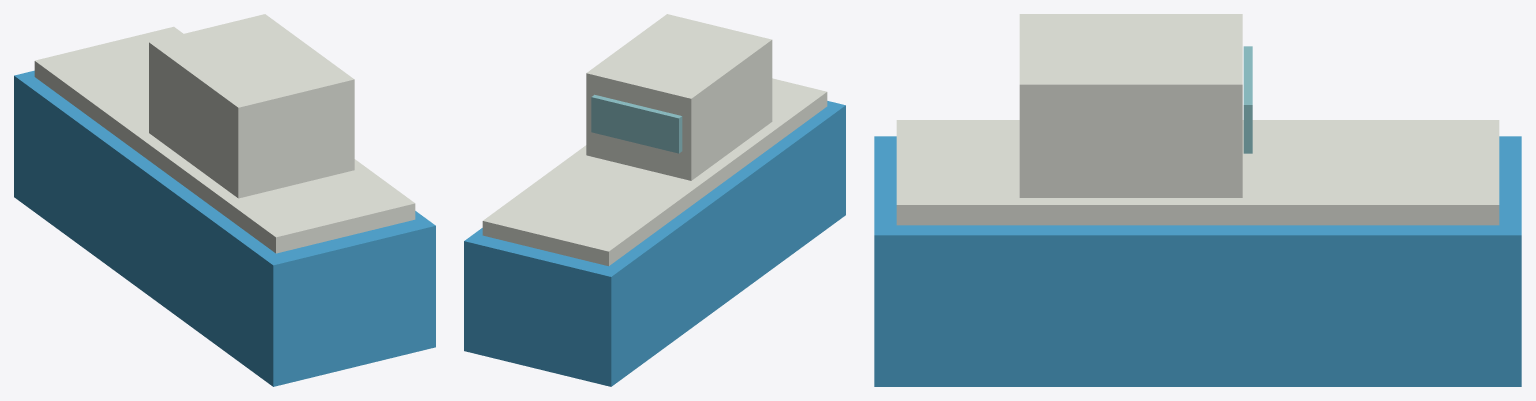
Rendered from pilot.glb.
3 views of the same model, side by side, from view 1: azimuth 30°, elevation 25°; view 2: azimuth 150°, elevation 25°; view 3: azimuth 270°, elevation 25° (orthographic). The views are drawn at different scales.
Visible parts, largest first — view 1: PILOT_HULL, PILOT_CABIN, PILOT_DECK; view 2: PILOT_HULL, PILOT_CABIN, PILOT_DECK, PILOT_WINDOW; view 3: PILOT_HULL, PILOT_DECK, PILOT_CABIN, PILOT_WINDOW.
Boxes of the visible parts, x1=… form: PILOT_HULL: x1=14, y1=70, x2=435, y2=386; PILOT_CABIN: x1=149, y1=14, x2=354, y2=198; PILOT_DECK: x1=34, y1=26, x2=415, y2=253; PILOT_HULL: x1=464, y1=101, x2=845, y2=386; PILOT_CABIN: x1=586, y1=14, x2=772, y2=180; PILOT_DECK: x1=482, y1=78, x2=827, y2=266; PILOT_WINDOW: x1=591, y1=94, x2=682, y2=153; PILOT_HULL: x1=874, y1=136, x2=1521, y2=386; PILOT_DECK: x1=896, y1=120, x2=1499, y2=225; PILOT_CABIN: x1=1019, y1=14, x2=1242, y2=197; PILOT_WINDOW: x1=1243, y1=46, x2=1252, y2=153.
Size of the model in its own units: 2.1 by 2.85 by 5.8.
